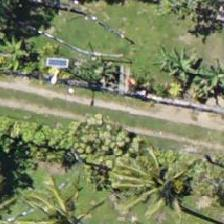coconut_tree: (109, 133, 199, 223), (11, 171, 101, 223)
